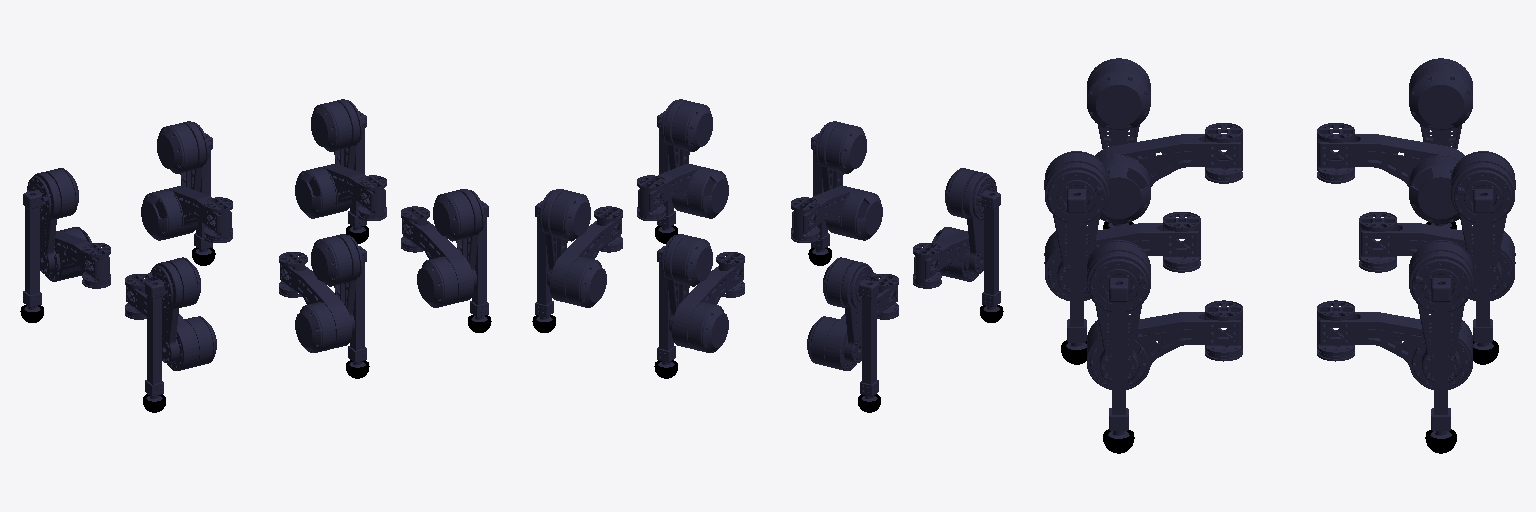
--- Facts derived from the render (not from the file) ---
The picture shows the robot from 3 angles, left to right: view 1: azimuth 30°, elevation 25°; view 2: azimuth 150°, elevation 25°; view 3: azimuth 270°, elevation 25°; orthographic projection.
Model el_mini with 26 links and 25 joints (18 revolute, 6 fixed, 1 floating), rooted at world, posed every joint at zero.
Links seen in each view (by area): view 1: RF_HIP, RM_HIP, LM_HIP, LF_HIP, RB_HIP, LB_HIP, RF_THIGH, RM_THIGH, RB_THIGH, LB_THIGH, LM_THIGH, LF_THIGH (+6 smaller); view 2: LF_HIP, LM_HIP, RM_HIP, RF_HIP, LB_HIP, RB_HIP, LF_THIGH, LM_THIGH, LB_THIGH, RB_THIGH, RM_THIGH, RF_THIGH (+6 smaller); view 3: RB_HIP, LB_HIP, LF_HIP, RF_HIP, LM_HIP, RM_HIP, RB_THIGH, LB_THIGH, RF_THIGH, LF_THIGH, RM_THIGH, LM_THIGH (+4 smaller).
Link boxes in pixels (x1,y1,x2,y2): RF_HIP: [401, 206, 473, 307]; RM_HIP: [279, 252, 351, 352]; LM_HIP: [141, 186, 232, 242]; LF_HIP: [295, 164, 386, 220]; RB_HIP: [125, 274, 216, 370]; LB_HIP: [45, 227, 110, 288]; RF_THIGH: [433, 189, 484, 287]; RM_THIGH: [311, 234, 362, 332]; RB_THIGH: [146, 257, 200, 363]; LB_THIGH: [27, 168, 78, 273]; LM_THIGH: [157, 121, 211, 191]; LF_THIGH: [311, 99, 365, 169]; LF_HIP: [550, 206, 622, 307]; LM_HIP: [672, 252, 744, 352]; RM_HIP: [791, 186, 882, 242]; RF_HIP: [637, 164, 728, 220]; LB_HIP: [807, 274, 898, 370]; RB_HIP: [913, 227, 978, 288]; LF_THIGH: [539, 189, 590, 287]; LM_THIGH: [661, 234, 712, 332]; LB_THIGH: [823, 257, 877, 363]; RB_THIGH: [945, 168, 996, 273]; RM_THIGH: [812, 121, 866, 191]; RF_THIGH: [658, 99, 712, 169]; RB_HIP: [1095, 123, 1242, 223]; LB_HIP: [1317, 123, 1464, 223]; LF_HIP: [1317, 300, 1472, 389]; RF_HIP: [1087, 300, 1242, 389]; LM_HIP: [1359, 212, 1515, 300]; RM_HIP: [1044, 212, 1200, 300]; RB_THIGH: [1087, 58, 1150, 148]; LB_THIGH: [1409, 58, 1472, 148]; RF_THIGH: [1087, 240, 1150, 382]; LF_THIGH: [1409, 240, 1472, 382]; RM_THIGH: [1044, 151, 1108, 293]; LM_THIGH: [1451, 151, 1515, 293].
Bounding box of the posed robot: 0.752 × 0.672 × 0.3005 m (x, y, z).
Meshes: 25 distinct files referenced, 24 mesh visuals loaded (24 binary STL); not drawn: 1 (reference not matched to a file when rendering).

URDF robot description (el_mini):
<?xml version="1.0" encoding="utf-8"?>
<!-- =================================================================================== -->
<!-- ============ This URDF was created by HIT RCAMC k206 ZZLin 2023.11.07 ============= -->
<!-- =================================================================================== -->
<robot
  name="el_mini">
  <material name="black">
    <color rgba="0.0 0.0 0.0 1.0"/>
  </material>
  <material name="blue">
    <color rgba="0.0 0.0 0.8 1.0"/>
  </material>
  <material name="green">
    <color rgba="0.0 0.8 0.0 1.0"/>
  </material>
  <material name="grey">
    <color rgba="0.2 0.2 0.2 1.0"/>
  </material>
  <material name="red">
    <color rgba="0.8 0.0 0.0 1.0"/>
  </material>
  <material name="white">
    <color rgba="1.0 1.0 1.0 1.0"/>
  </material>
  <link name = "world"></link>
  <joint name = "float_joint"
  type="floating">
  <parent
      link="world" />
    <child
      link="BASE" />
     </joint>
  <link
    name="BASE">
    <inertial>
      <origin
        xyz="0.00000732 0.00000000 0.02428745"
        rpy="0 0 0" />
      <mass
        value="15.89907465" />
      <!-- <mass -->
        <!-- value="8.89907465" /> -->
      <inertia
        ixx="0.09260861"
        ixy="-0.00001892"
        ixz="0.00000158"
        iyy="0.47054913"
        iyz="0.00000000"
        izz="0.53896766" />
    </inertial>
    <visual>
      <origin
        xyz="0 0 0"
        rpy="0 0 0" />
      <geometry>
        <mesh
          filename="package://robot/urdf/el_mini/meshes/BASE.STL" />
      </geometry>
      <material
        name="grey">
        <color
          rgba="0.2 0.2 0.3 1" />
      </material>
    </visual>
    <collision>
      <origin
        xyz="0 0 0"
        rpy="0 0 0" />
      <geometry>
        <mesh
          filename="package://robot/urdf/el_mini/meshes/BASE.STL" />
      </geometry>
    </collision>
  </link>
  <link
    name="RF_HIP">
    <inertial>
      <origin
        xyz=" -0.01146909 -0.12306389 -0.03643601"
        rpy="0 0 0" />
      <mass
        value="1.20924153" />
      <inertia
        ixx="0.00506259"
        ixy="-0.00037922"
        ixz="-0.00012353"
        iyy="0.00134204"
        iyz="-0.00101741"
        izz="0.00448477" />
    </inertial>
    <visual>
      <origin
        xyz="0 0 0"
        rpy="0 0 0" />
      <geometry>
        <mesh
          filename="package://robot/urdf/el_mini/meshes/RF_HIP.STL" />
      </geometry>
      <material
        name="grey">
        <color
          rgba="0.2 0.2 0.3 1" />
      </material>
    </visual>
    <collision>
      <origin
        xyz="0 0 0"
        rpy="0 0 0" />
      <geometry>
        <mesh
          filename="package://robot/urdf/el_mini/meshes/RF_HIP.STL" />
      </geometry>
    </collision>
  </link>
  <joint
    name="RF_HAA"
    type="revolute">
    <origin
      xyz="0.3 -0.08 0.011"
      rpy="0 0 0" />
    <parent
      link="BASE" />
    <child
      link="RF_HIP" />
    <axis
      xyz="0 0 1" />
    <limit
      lower="-0.785"
      upper="0.785"
      effort="33.5"
      velocity="21" />
  </joint>
  <link
    name="RF_THIGH">
    <inertial>
      <origin
        xyz="0.11424797 -0.00005753 -0.01976803"
        rpy="0 0 0" />
      <mass
        value="0.92523512" />
      <inertia
        ixx="0.00065690"
        ixy="0.00000148"
        ixz="0.00012260"
        iyy="0.00209449"
        iyz="0.00000158"
        izz="0.00237655" />
    </inertial>
    <visual>
      <origin
        xyz="0 0 0"
        rpy="0 0 0" />
      <geometry>
        <mesh
          filename="package://robot/urdf/el_mini/meshes/RF_THIGH.STL" />
      </geometry>
      <material
        name="grey">
        <color
          rgba="0.2 0.2 0.3 1" />
      </material>
    </visual>
    <collision>
      <origin
        xyz="0 0 0"
        rpy="0 0 0" />
      <geometry>
        <mesh
          filename="package://robot/urdf/el_mini/meshes/RF_THIGH.STL" />
      </geometry>
    </collision>
  </link>
  <joint
    name="RF_HFE"
    type="revolute">
    <origin
      xyz="0.0355 -0.14999 -0.045056"
      rpy="3.1416 -1.5708 0" />
    <parent
      link="RF_HIP" />
    <child
      link="RF_THIGH" />
    <axis
      xyz="0 0 1" />
    <limit
      lower="-0.5233"
      upper="3.14"
      effort="33.5"
      velocity="21" />
  </joint>
  <link
    name="RF_SHANK">
    <inertial>
      <origin
        xyz="0.00000000 -0.07024046 -0.00923673"
        rpy="0 0 0" />
      <mass
        value="0.28148664" />
      <inertia
        ixx="0.00256638"
        ixy="0.00000000"
        ixz="0.00000000"
        iyy="0.00009216"
        iyz="-0.00017328"
        izz="0.00258818" />
    </inertial>
    <visual>
      <origin
        xyz="0 0 0"
        rpy="0 0 0" />
      <geometry>
        <mesh
          filename="package://robot/urdf/el_mini/meshes/RF_SHANK.STL" />
      </geometry>
      <material
        name="grey">
        <color
          rgba="0.2 0.2 0.3 1" />
      </material>
    </visual>
    <collision>
      <origin
        xyz="0 0 0"
        rpy="0 0 0" />
      <geometry>
        <mesh
          filename="package://robot/urdf/el_mini/meshes/RF_SHANK.STL" />
      </geometry>
    </collision>
  </link>
  <joint
    name="RF_KFE"
    type="revolute">
    <origin
      xyz="0.13 0 0"
      rpy="3.1416 0 1.5708" />
    <parent
      link="RF_THIGH" />
    <child
      link="RF_SHANK" />
    <axis
      xyz="0 0 1" />
    <limit
      lower="-0.6978"
      upper="3.925"
      effort="33.5"
      velocity="21" />
  </joint>
  <link
    name="RF_FOOT">
    <inertial>
      <origin
        xyz="0.00000000 -0.0070918 0.00000000"
        rpy="0 0 0" />
      <mass
        value="0.01901289" />
      <inertia
        ixx="0.00000396"
        ixy="0.00000000"
        ixz="0.00000000"
        iyy="0.00000573"
        iyz="0.00000000"
        izz="0.00000396" />
    </inertial>
    <visual>
      <origin
        xyz="0 0 0"
        rpy="0 0 0" />
      <geometry>
        <mesh
          filename="package://robot/urdf/el_mini/meshes/RF_FOOT.STL" />
      </geometry>
      <material
        name="black">
        <color
          rgba="0 0 0 1" />
      </material>
    </visual>
    <collision>
      <origin
        xyz="0 0 0"
        rpy="0 0 0" />
      <geometry>
        <mesh
          filename="package://robot/urdf/el_mini/meshes/RF_FOOT.STL" />
      </geometry>
    </collision>
  </link>
  <joint
    name="RF_FIX"
    type="fixed" dont_collapse="true">
    <origin
      xyz="0 -0.232000000000001 -0.0179999999999972"
      rpy="0 0 0" />
    <parent
      link="RF_SHANK" />
    <child
      link="RF_FOOT" />
    <axis
      xyz="0 0 0" />
  </joint>
  <link
    name="RM_HIP">
    <inertial>
      <origin
        xyz=" -0.01146909 -0.12306389 -0.03643601"
        rpy="0 0 0" />
      <mass
        value="1.20924153" />
      <inertia
        ixx="0.00506259"
        ixy="-0.00037922"
        ixz="-0.00012353"
        iyy="0.00134204"
        iyz="-0.00101741"
        izz="0.00448477" />
    </inertial>
    <visual>
      <origin
        xyz="0 0 0"
        rpy="0 0 0" />
      <geometry>
        <mesh
          filename="package://robot/urdf/el_mini/meshes/RM_HIP.STL" />
      </geometry>
      <material
        name="grey">
        <color
          rgba="0.2 0.2 0.3 1" />
      </material>
    </visual>
    <collision>
      <origin
        xyz="0 0 0"
        rpy="0 0 0" />
      <geometry>
        <mesh
          filename="package://robot/urdf/el_mini/meshes/RM_HIP.STL" />
      </geometry>
    </collision>
  </link>
  <joint
    name="RM_HAA"
    type="revolute">
    <origin
      xyz="0 -0.14 0.011"
      rpy="0 0 0" />
    <parent
      link="BASE" />
    <child
      link="RM_HIP" />
    <axis
      xyz="0 0 1" />
    <limit
      lower="-0.785"
      upper="0.785"
      effort="33.5"
      velocity="21" />
  </joint>
  <link
    name="RM_THIGH">
    <inertial>
      <origin
        xyz="0.11424797 -0.00005753 -0.01976803"
        rpy="0 0 0" />
      <mass
        value="0.92523512" />
      <inertia
        ixx="0.00065690"
        ixy="0.00000148"
        ixz="0.00012260"
        iyy="0.00209449"
        iyz="0.00000158"
        izz="0.00237655" />
    </inertial>
    <visual>
      <origin
        xyz="0 0 0"
        rpy="0 0 0" />
      <geometry>
        <mesh
          filename="package://robot/urdf/el_mini/meshes/RM_THIGH.STL" />
      </geometry>
      <material
        name="grey">
        <color
          rgba="0.2 0.2 0.3 1" />
      </material>
    </visual>
    <collision>
      <origin
        xyz="0 0 0"
        rpy="0 0 0" />
      <geometry>
        <mesh
          filename="package://robot/urdf/el_mini/meshes/RM_THIGH.STL" />
      </geometry>
    </collision>
  </link>
  <joint
    name="RM_HFE"
    type="revolute">
    <origin
      xyz="0.0355 -0.14999 -0.045056"
      rpy="3.1416 -1.5708 0" />
    <parent
      link="RM_HIP" />
    <child
      link="RM_THIGH" />
    <axis
      xyz="0 0 1" />
    <limit
      lower="-0.5233"
      upper="3.14"
      effort="33.5"
      velocity="21" />
  </joint>
  <link
    name="RM_SHANK">
    <inertial>
      <origin
        xyz="0.00000000 -0.07024046 -0.00923673"
        rpy="0 0 0" />
      <mass
        value="0.28148664" />
      <inertia
        ixx="0.00256638"
        ixy="0.00000000"
        ixz="0.00000000"
        iyy="0.00009216"
        iyz="-0.00017328"
        izz="0.00258818" />
    </inertial>
    <visual>
      <origin
        xyz="0 0 0"
        rpy="0 0 0" />
      <geometry>
        <mesh
          filename="package://robot/urdf/el_mini/meshes/RM_SHANK.STL" />
      </geometry>
      <material
        name="grey">
        <color
          rgba="0.2 0.2 0.3 1" />
      </material>
    </visual>
    <collision>
      <origin
        xyz="0 0 0"
        rpy="0 0 0" />
      <geometry>
        <mesh
          filename="package://robot/urdf/el_mini/meshes/RM_SHANK.STL" />
      </geometry>
    </collision>
  </link>
  <joint
    name="RM_KFE"
    type="revolute">
    <origin
      xyz="0.13 0 0"
      rpy="3.1416 0 1.5708" />
    <parent
      link="RM_THIGH" />
    <child
      link="RM_SHANK" />
    <axis
      xyz="0 0 1" />
    <limit
      lower="-0.6978"
      upper="3.925"
      effort="33.5"
      velocity="21" />
  </joint>
  <link
    name="RM_FOOT">
    <inertial>
      <origin
        xyz="0.00000000 -0.0070918 0.00000000"
        rpy="0 0 0" />
      <mass
        value="0.01901289" />
      <inertia
        ixx="0.00000396"
        ixy="0.00000000"
        ixz="0.00000000"
        iyy="0.00000573"
        iyz="0.00000000"
        izz="0.00000396" />
    </inertial>
    <visual>
      <origin
        xyz="0 0 0"
        rpy="0 0 0" />
      <geometry>
        <mesh
          filename="package://robot/urdf/el_mini/meshes/RM_FOOT.STL" />
      </geometry>
      <material
        name="black">
        <color
          rgba="0 0 0 1" />
      </material>
    </visual>
    <collision>
      <origin
        xyz="0 0 0"
        rpy="0 0 0" />
      <geometry>
        <mesh
          filename="package://robot/urdf/el_mini/meshes/RM_FOOT.STL" />
      </geometry>
    </collision>
  </link>
  <joint
    name="RM_FIX"
    type="fixed" dont_collapse="true">
    <origin
      xyz="0 -0.232 -0.018"
      rpy="0 0 0" />
    <parent
      link="RM_SHANK" />
    <child
      link="RM_FOOT" />
    <axis
      xyz="0 0 0" />
  </joint>
  <link
    name="RB_HIP">
    <inertial>
      <origin
        xyz=" 0.01146909 -0.12306389 -0.03643601"
        rpy="0 0 0" />
      <mass
        value="1.20924153" />
      <inertia
        ixx="0.00506259"
        ixy="0.00037922"
        ixz="0.00012353"
        iyy="0.00134204"
        iyz="-0.00101741"
        izz="0.00448477" />
    </inertial>
    <visual>
      <origin
        xyz="0 0 0"
        rpy="0 0 0" />
      <geometry>
        <mesh
          filename="package://robot/urdf/el_mini/meshes/RB_HIP.STL" />
      </geometry>
      <material
        name="grey">
        <color
          rgba="0.2 0.2 0.3 1" />
      </material>
    </visual>
    <collision>
      <origin
        xyz="0 0 0"
        rpy="0 0 0" />
      <geometry>
        <mesh
          filename="package://robot/urdf/el_mini/meshes/RB_HIP.STL" />
      </geometry>
    </collision>
  </link>
  <joint
    name="RB_HAA"
    type="revolute">
    <origin
      xyz="-0.3 -0.08 0.011"
      rpy="0 0 0" />
    <parent
      link="BASE" />
    <child
      link="RB_HIP" />
    <axis
      xyz="0 0 1" />
    <limit
      lower="-0.785"
      upper="0.785"
      effort="33.5"
      velocity="21" />
  </joint>
  <link
    name="RB_THIGH">
    <inertial>
      <origin
        xyz="0.11424797 -0.00005753 0.01976803"
        rpy="0 0 0" />
      <mass
        value="0.92523512" />
      <inertia
        ixx="0.00065690"
        ixy="0.00000148"
        ixz="-0.00012260"
        iyy="0.00209449"
        iyz="-0.00000158"
        izz="0.00237655" />
    </inertial>
    <visual>
      <origin
        xyz="0 0 0"
        rpy="0 0 0" />
      <geometry>
        <mesh
          filename="package://robot/urdf/el_mini/meshes/RB_THIGH.STL" />
      </geometry>
      <material
        name="grey">
        <color
          rgba="0.2 0.2 0.3 1" />
      </material>
    </visual>
    <collision>
      <origin
        xyz="0 0 0"
        rpy="0 0 0" />
      <geometry>
        <mesh
          filename="package://robot/urdf/el_mini/meshes/RB_THIGH.STL" />
      </geometry>
    </collision>
  </link>
  <joint
    name="RB_HFE"
    type="revolute">
    <origin
      xyz="-0.0355 -0.14999 -0.045056"
      rpy="3.1416 -1.5708 0" />
    <parent
      link="RB_HIP" />
    <child
      link="RB_THIGH" />
    <axis
      xyz="0 0 1" />
    <limit
      lower="-0.5233"
      upper="3.14"
      effort="33.5"
      velocity="21" />
  </joint>
  <link
    name="RB_SHANK">
    <inertial>
      <origin
        xyz="0.00000000 -0.07024046 0.00923673"
        rpy="0 0 0" />
      <mass
        value="0.28148664" />
      <inertia
        ixx="0.00256638"
        ixy="0.00000000"
        ixz="0.00000000"
        iyy="0.00009216"
        iyz="0.00017328"
        izz="0.00258818" />
    </inertial>
    <visual>
      <origin
        xyz="0 0 0"
        rpy="0 0 0" />
      <geometry>
        <mesh
          filename="package://robot/urdf/el_mini/meshes/RB_SHANK.STL" />
      </geometry>
      <material
        name="grey">
        <color
          rgba="0.2 0.2 0.3 1" />
      </material>
    </visual>
    <collision>
      <origin
        xyz="0 0 0"
        rpy="0 0 0" />
      <geometry>
        <mesh
          filename="package://robot/urdf/el_mini/meshes/RB_SHANK.STL" />
      </geometry>
    </collision>
  </link>
  <joint
    name="RB_KFE"
    type="revolute">
    <origin
      xyz="0.13 0 0"
      rpy="3.1416 0 1.5708" />
    <parent
      link="RB_THIGH" />
    <child
      link="RB_SHANK" />
    <axis
      xyz="0 0 1" />
    <limit
      lower="-0.6978"
      upper="3.925"
      effort="33.5"
      velocity="21" />
  </joint>
  <link
    name="RB_FOOT">
    <inertial>
      <origin
        xyz="0.00000000 -0.0070918 0.00000000"
        rpy="0 0 0" />
      <mass
        value="0.01901289" />
      <inertia
        ixx="0.00000396"
        ixy="0.00000000"
        ixz="0.00000000"
        iyy="0.00000573"
        iyz="0.00000000"
        izz="0.00000396" />
    </inertial>
    <visual>
      <origin
        xyz="0 0 0"
        rpy="0 0 0" />
      <geometry>
        <mesh
          filename="package://robot/urdf/el_mini/meshes/RB_FOOT.STL" />
      </geometry>
      <material
        name="black">
        <color
          rgba="0 0 0 1" />
      </material>
    </visual>
    <collision>
      <origin
        xyz="0 0 0"
        rpy="0 0 0" />
      <geometry>
        <mesh
          filename="package://robot/urdf/el_mini/meshes/RB_FOOT.STL" />
      </geometry>
    </collision>
  </link>
  <joint
    name="RB_FIX"
    type="fixed" dont_collapse="true">
    <origin
      xyz="0 -0.232000000000003 0.0180000000000001"
      rpy="0 0 0" />
    <parent
      link="RB_SHANK" />
    <child
      link="RB_FOOT" />
    <axis
      xyz="0 0 0" />
  </joint>
  <link
    name="LF_HIP">
    <inertial>
      <origin
        xyz=" -0.01146909 -0.12306389 0.03643601"
        rpy="0 0 0" />
      <mass
        value="1.20924153" />
      <inertia
        ixx="0.00506259"
        ixy="-0.00037922"
        ixz="0.00012353"
        iyy="0.00134204"
        iyz="0.00101741"
        izz="0.00448477" />
    </inertial>
    <visual>
      <origin
        xyz="0 0 0"
        rpy="0 0 0" />
      <geometry>
        <mesh
          filename="package://robot/urdf/el_mini/meshes/LF_HIP.STL" />
      </geometry>
      <material
        name="grey">
        <color
          rgba="0.2 0.2 0.3 1" />
      </material>
    </visual>
    <collision>
      <origin
        xyz="0 0 0"
        rpy="0 0 0" />
      <geometry>
        <mesh
          filename="package://robot/urdf/el_mini/meshes/LF_HIP.STL" />
      </geometry>
    </collision>
  </link>
  <joint
    name="LF_HAA"
    type="revolute">
    <origin
      xyz="0.3 0.08 0.011"
      rpy="-3.1416 0 0" />
    <parent
      link="BASE" />
    <child
      link="LF_HIP" />
    <axis
      xyz="0 0 1" />
    <limit
      lower="-0.785"
      upper="0.785"
      effort="33.5"
      velocity="21" />
  </joint>
  <link
    name="LF_THIGH">
    <inertial>
      <origin
        xyz="0.11424797 -0.00005753 0.01976803"
        rpy="0 0 0" />
      <mass
        value="0.92523512" />
      <inertia
        ixx="0.00065690"
        ixy="0.00000148"
        ixz="-0.00012260"
        iyy="0.00209449"
        iyz="-0.00000158"
        izz="0.00237655" />
    </inertial>
    <visual>
      <origin
        xyz="0 0 0"
        rpy="0 0 0" />
      <geometry>
        <mesh
          filename="package://robot/urdf/el_mini/meshes/LF_THIGH.STL" />
      </geometry>
      <material
        name="grey">
        <color
          rgba="0.2 0.2 0.3 1" />
      </material>
    </visual>
    <collision>
      <origin
        xyz="0 0 0"
        rpy="0 0 0" />
      <geometry>
        <mesh
          filename="package://robot/urdf/el_mini/meshes/LF_THIGH.STL" />
      </geometry>
    </collision>
  </link>
  <joint
    name="LF_HFE"
    type="revolute">
    <origin
      xyz="0.0355 -0.14999 0.045056"
      rpy="3.1416 1.5708 0" />
    <parent
      link="LF_HIP" />
    <child
      link="LF_THIGH" />
    <axis
      xyz="0 0 1" />
    <limit
      lower="-0.5233"
      upper="3.14"
      effort="33.5"
      velocity="21" />
  </joint>
  <link
    name="LF_SHANK">
    <inertial>
      <origin
        xyz="0.00000000 -0.07024046 0.00923673"
        rpy="0 0 0" />
      <mass
        value="0.28148664" />
      <inertia
        ixx="0.00256638"
        ixy="0.00000000"
        ixz="0.00000000"
        iyy="0.00009216"
        iyz="0.00017328"
        izz="0.00258818" />
    </inertial>
    <visual>
      <origin
        xyz="0 0 0"
        rpy="0 0 0" />
      <geometry>
        <mesh
          filename="package://robot/urdf/el_mini/meshes/LF_SHANK.STL" />
      </geometry>
      <material
        name="grey">
        <color
          rgba="0.2 0.2 0.3 1" />
      </material>
    </visual>
    <collision>
      <origin
        xyz="0 0 0"
        rpy="0 0 0" />
      <geometry>
        <mesh
          filename="package://robot/urdf/el_mini/meshes/LF_SHANK.STL" />
      </geometry>
    </collision>
  </link>
  <joint
    name="LF_KFE"
    type="revolute">
    <origin
      xyz="0.13 0 0"
      rpy="-3.1416 0 1.5708" />
    <parent
      link="LF_THIGH" />
    <child
      link="LF_SHANK" />
    <axis
      xyz="0 0 1" />
    <limit
      lower="-0.6978"
      upper="3.925"
      effort="33.5"
      velocity="21" />
  </joint>
  <link
    name="LF_FOOT">
    <inertial>
      <origin
        xyz="0.00000000 -0.0070918 0.00000000"
        rpy="0 0 0" />
      <mass
        value="0.01901289" />
      <inertia
        ixx="0.00000396"
        ixy="0.00000000"
        ixz="0.00000000"
        iyy="0.00000573"
        iyz="0.00000000"
        izz="0.00000396" />
    </inertial>
    <visual>
      <origin
        xyz="0 0 0"
        rpy="0 0 0" />
      <geometry>
        <mesh
          filename="package://robot/urdf/el_mini/meshes/LF_FOOT.STL" />
      </geometry>
      <material
        name="black">
        <color
          rgba="0 0 0 1" />
      </material>
    </visual>
    <collision>
      <origin
        xyz="0 0 0"
        rpy="0 0 0" />
      <geometry>
        <mesh
          filename="package://robot/urdf/el_mini/meshes/LF_FOOT.STL" />
      </geometry>
    </collision>
  </link>
  <joint
    name="LF_FIX"
    type="fixed" dont_collapse="true">
    <origin
      xyz="0 -0.232000000000004 0.0180000000000031"
      rpy="-3.14159265358979 0 -3.14159265358978" />
    <parent
      link="LF_SHANK" />
    <child
      link="LF_FOOT" />
    <axis
      xyz="0 0 0" />
  </joint>
  <link
    name="LM_HIP">
    <inertial>
      <origin
        xyz=" -0.01146909 -0.12306389 0.03643601"
        rpy="0 0 0" />
      <mass
        value="1.20924153" />
      <inertia
        ixx="0.00506259"
        ixy="-0.00037922"
        ixz="0.00012353"
        iyy="0.00134204"
        iyz="0.00101741"
        izz="0.00448477" />
    </inertial>
    <visual>
      <origin
        xyz="0 0 0"
        rpy="0 0 0" />
      <geometry>
        <mesh
          filename="package://robot/urdf/el_mini/meshes/LM_HIP.STL" />
      </geometry>
      <material
        name="grey">
        <color
          rgba="0.2 0.2 0.3 1" />
      </material>
    </visual>
    <collision>
      <origin
        xyz="0 0 0"
        rpy="0 0 0" />
      <geometry>
        <mesh
          filename="package://robot/urdf/el_mini/meshes/LM_HIP.STL" />
      </geometry>
    </collision>
  </link>
  <joint
    name="LM_HAA"
    type="revolute">
    <origin
      xyz="0 0.14 0.011"
      rpy="-3.1416 0 0" />
    <parent
      link="BASE" />
    <child
      link="LM_HIP" />
    <axis
      xyz="0 0 1" />
    <limit
      lower="-0.785"
      upper="0.785"
      effort="33.5"
      velocity="21" />
  </joint>
  <link
    name="LM_THIGH">
    <inertial>
      <origin
        xyz="0.11424797 -0.00005753 0.01976803"
        rpy="0 0 0" />
      <mass
        value="0.92523512" />
      <inertia
        ixx="0.00065690"
        ixy="0.00000148"
        ixz="-0.00012260"
        iyy="0.00209449"
        iyz="-0.00000158"
        izz="0.00237655" />
    </inertial>
    <visual>
      <origin
        xyz="0 0 0"
        rpy="0 0 0" />
      <geometry>
        <mesh
          filename="package://robot/urdf/el_mini/meshes/LM_THIGH.STL" />
      </geometry>
      <material
        name="grey">
        <color
          rgba="0.2 0.2 0.3 1" />
      </material>
    </visual>
    <collision>
      <origin
        xyz="0 0 0"
        rpy="0 0 0" />
      <geometry>
        <mesh
          filename="package://robot/urdf/el_mini/meshes/LM_THIGH.STL" />
      </geometry>
    </collision>
  </link>
  <joint
    name="LM_HFE"
    type="revolute">
    <origin
      xyz="0.0355 -0.14999 0.045056"
      rpy="3.1416 1.5708 0" />
    <parent
      link="LM_HIP" />
    <child
      link="LM_THIGH" />
    <axis
      xyz="0 0 1" />
    <limit
      lower="-0.5233"
      upper="3.14"
      effort="33.5"
      velocity="21" />
  </joint>
  <link
    name="LM_SHANK">
    <inertial>
      <origin
        xyz="0.00000000 -0.07024046 0.00923673"
        rpy="0 0 0" />
      <mass
        value="0.28148664" />
      <inertia
        ixx="0.00256638"
        ixy="0.00000000"
        ixz="0.00000000"
        iyy="0.00009216"
        iyz="0.00017328"
        izz="0.00258818" />
    </inertial>
    <visual>
      <origin
        xyz="0 0 0"
        rpy="0 0 0" />
      <geometry>
        <mesh
          filename="package://robot/urdf/el_mini/meshes/LM_SHANK.STL" />
      </geometry>
      <material
        name="grey">
        <color
          rgba="0.2 0.2 0.3 1" />
      </material>
    </visual>
    <collision>
      <origin
        xyz="0 0 0"
        rpy="0 0 0" />
      <geometry>
        <mesh
          filename="package://robot/urdf/el_mini/meshes/LM_SHANK.STL" />
      </geometry>
    </collision>
  </link>
  <joint
    name="LM_KFE"
    type="revolute">
    <origin
      xyz="0.13 0 0"
      rpy="-3.1416 0 1.5708" />
    <parent
      link="LM_THIGH" />
    <child
      link="LM_SHANK" />
    <axis
      xyz="0 0 1" />
    <limit
      lower="-0.6978"
      upper="3.925"
      effort="33.5"
      velocity="21" />
  </joint>
  <link
    name="LM_FOOT">
    <inertial>
      <origin
        xyz="0.00000000 -0.0070918 0.00000000"
        rpy="0 0 0" />
      <mass
        value="0.01901289" />
      <inertia
        ixx="0.00000396"
        ixy="0.00000000"
        ixz="0.00000000"
        iyy="0.00000573"
        iyz="0.00000000"
        izz="0.00000396" />
    </inertial>
    <visual>
      <origin
        xyz="0 0 0"
        rpy="0 0 0" />
      <geometry>
        <mesh
          filename="package://robot/urdf/el_mini/meshes/LM_FOOT.STL" />
      </geometry>
      <material
        name="black">
        <color
          rgba="0 0 0 1" />
      </material>
    </visual>
    <collision>
      <origin
        xyz="0 0 0"
        rpy="0 0 0" />
      <geometry>
        <mesh
          filename="package://robot/urdf/el_mini/meshes/LM_FOOT.STL" />
      </geometry>
    </collision>
  </link>
  <joint
    name="LM_FIX"
    type="fixed" dont_collapse="true">
    <origin
      xyz="0 -0.232000000000005 0.0180000000000039"
      rpy="3.14159265358979 0 3.14159265358979" />
    <parent
      link="LM_SHANK" />
    <child
      link="LM_FOOT" />
    <axis
      xyz="0 0 0" />
  </joint>
  <link
    name="LB_HIP">
    <inertial>
      <origin
        xyz="0.01146909 -0.12306389 0.03643601"
        rpy="0 0 0" />
      <mass
        value="1.20924153" />
      <inertia
        ixx="0.00506259"
        ixy="0.00037922"
        ixz="-0.00012353"
        iyy="0.00134204"
        iyz="0.00101741"
        izz="0.00448477" />
    </inertial>
    <visual>
      <origin
        xyz="0 0 0"
        rpy="0 0 0" />
      <geometry>
        <mesh
          filename="package://robot/urdf/el_mini/meshes/LB_HIP.STL" />
      </geometry>
      <material
        name="grey">
        <color
          rgba="0.2 0.2 0.3 1" />
      </material>
    </visual>
    <collision>
      <origin
        xyz="0 0 0"
        rpy="0 0 0" />
      <geometry>
        <mesh
          filename="package://robot/urdf/el_mini/meshes/LB_HIP.STL" />
      </geometry>
    </collision>
  </link>
  <joint
    name="LB_HAA"
    type="revolute">
    <origin
      xyz="-0.3 0.08 0.011"
      rpy="-3.1416 0 0" />
    <parent
      link="BASE" />
    <child
      link="LB_HIP" />
    <axis
      xyz="0 0 1" />
    <limit
      lower="-0.785"
      upper="0.785"
      effort="33.5"
      velocity="21" />
  </joint>
  <link
    name="LB_THIGH">
    <inertial>
      <origin
        xyz="0.11424797 -0.00005753 -0.01976803"
        rpy="0 0 0" />
      <mass
        value="0.92523512" />
      <inertia
        ixx="0.00065690"
        ixy="0.00000148"
        ixz="0.00012260"
        iyy="0.00209449"
        iyz="0.00000158"
        izz="0.00237655" />
    </inertial>
    <visual>
      <origin
        xyz="0 0 0"
        rpy="0 0 0" />
      <geometry>
        <mesh
          filename="package://robot/urdf/el_mini/meshes/LB_THIGH.STL" />
      </geometry>
      <material
        name="grey">
        <color
          rgba="0.2 0.2 0.3 1" />
      </material>
    </visual>
    <collision>
      <origin
        xyz="0 0 0"
        rpy="0 0 0" />
      <geometry>
        <mesh
          filename="package://robot/urdf/el_mini/meshes/LB_THIGH.STL" />
      </geometry>
    </collision>
  </link>
  <joint
    name="LB_HFE"
    type="revolute">
    <origin
      xyz="-0.0355 -0.14999 0.045056"
      rpy="3.1416 1.5708 0" />
    <parent
      link="LB_HIP" />
    <child
      link="LB_THIGH" />
    <axis
      xyz="0 0 1" />
    <limit
      lower="-0.5233"
      upper="3.14"
      effort="33.5"
      velocity="21" />
  </joint>
  <link
    name="LB_SHANK">
    <inertial>
      <origin
        xyz="0.00000000 -0.07024046 -0.00923673"
        rpy="0 0 0" />
      <mass
        value="0.28148664" />
      <inertia
        ixx="0.00256638"
        ixy="0.00000000"
        ixz="0.00000000"
        iyy="0.00009216"
        iyz="-0.00017328"
        izz="0.00258818" />
    </inertial>
    <visual>
      <origin
        xyz="0 0 0"
        rpy="0 0 0" />
      <geometry>
        <mesh
          filename="package://robot/urdf/el_mini/meshes/LB_SHANK.STL" />
      </geometry>
      <material
        name="grey">
        <color
          rgba="0.2 0.2 0.3 1" />
      </material>
    </visual>
    <collision>
      <origin
        xyz="0 0 0"
        rpy="0 0 0" />
      <geometry>
        <mesh
          filename="package://robot/urdf/el_mini/meshes/LB_SHANK.STL" />
      </geometry>
    </collision>
  </link>
  <joint
    name="LB_KFE"
    type="revolute">
    <origin
      xyz="0.13 0 0"
      rpy="3.1416 0 1.5708" />
    <parent
      link="LB_THIGH" />
    <child
      link="LB_SHANK" />
    <axis
      xyz="0 0 1" />
    <limit
      lower="-0.6978"
      upper="3.925"
      effort="33.5"
      velocity="21" />
  </joint>
  <link
    name="LB_FOOT">
    <inertial>
      <origin
        xyz="0.00000000 -0.0070918 0.00000000"
        rpy="0 0 0" />
      <mass
        value="0.01901289" />
      <inertia
        ixx="0.00000396"
        ixy="0.00000000"
        ixz="0.00000000"
        iyy="0.00000573"
        iyz="0.00000000"
        izz="0.00000396" />
    </inertial>
    <visual>
      <origin
        xyz="0 0 0"
        rpy="0 0 0" />
      <geometry>
        <mesh
          filename="package://robot/urdf/el_mini/meshes/LB_FOOT.STL" />
      </geometry>
      <material
        name="black">
        <color
          rgba="0 0 0 1" />
      </material>
    </visual>
    <collision>
      <origin
        xyz="0 0 0"
        rpy="0 0 0" />
      <geometry>
        <mesh
          filename="package://robot/urdf/el_mini/meshes/LB_FOOT.STL" />
      </geometry>
    </collision>
  </link>
  <joint
    name="LB_FIX"
    type="fixed" dont_collapse="true">
    <origin
      xyz="0 -0.231999999999989 -0.018"
      rpy="3.14159265358979 0 -3.14159265358978" />
    <parent
      link="LB_SHANK" />
    <child
      link="LB_FOOT" />
    <axis
      xyz="0 0 0" />
  </joint>




</robot>
